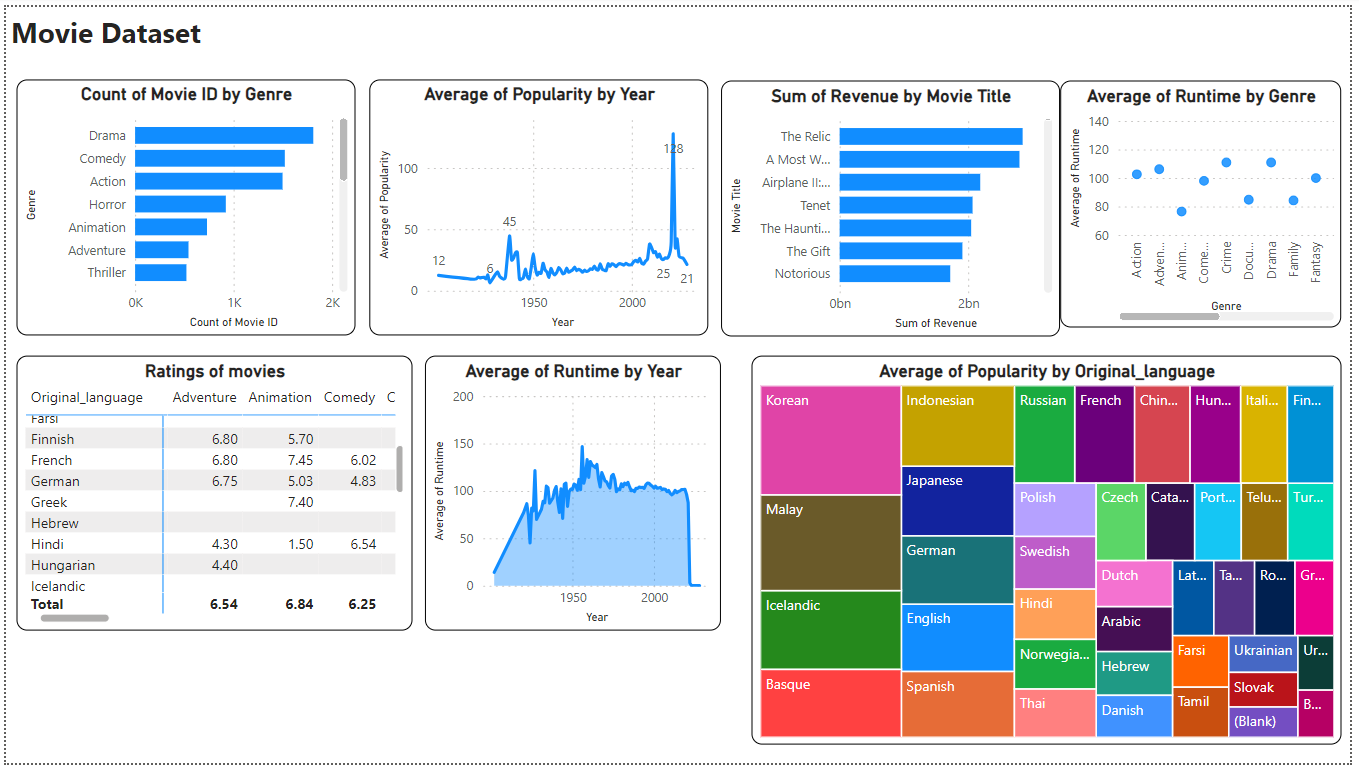

Layout of this report page (visuals, bound fields, positions):
{"tool":"powerbi","page":{"name":"Page 1","canvas":[1280,720],"ordinal":0},"visuals":[{"type":"textbox","box":[0,0,202,50],"z":1},{"type":"clusteredBarChart","fields":{"Category":["Movie_Details.Genre"],"Y":["CountNonNull(Movie_Details.Movie ID)"]},"box":[10,69,323,243],"z":2},{"type":"lineChart","fields":{"Y":["Avg(Movie_Details.Popularity)"],"Category":["Movie_Details.Release Date.Variation.Date Hierarchy.Year"]},"box":[346,69,323,243],"z":3},{"type":"clusteredBarChart","fields":{"Category":["Movie_Details.Movie Title"],"Y":["Sum(Movie_Details.Revenue)"]},"box":[681,70,323,243],"z":4},{"type":"pivotTable","title":"Ratings of movies","fields":{"Rows":["Movie_Details.Original_language"],"Columns":["Movie_Details.Genre"],"Values":["Avg(Movie_Details.Rating)"]},"box":[10,332,377,261],"z":5},{"type":"areaChart","fields":{"Category":["Movie_Details.Release Date.Variation.Date Hierarchy.Year"],"Y":["Avg(Movie_Details.Runtime)"]},"box":[399,332,282,261],"z":6},{"type":"scatterChart","fields":{"X":["Movie_Details.Genre"],"Y":["Avg(Movie_Details.Runtime)"]},"box":[1004,70,268,235],"z":7},{"type":"treemap","fields":{"Group":["Movie_Details.Original_language"],"Values":["Avg(Movie_Details.Popularity)"]},"box":[710,332,562,370],"z":8}]}

Visuals, with their boxes in screenshot pixels (x1, y1, x2, y2), scaled from the page's 1280x720 canvas onto the 1359x771 screenshot:
textbox: (left=0, top=0, right=214, bottom=54)
clusteredBarChart - Movie_Details.Genre x CountNonNull(Movie_Details.Movie ID): (left=11, top=74, right=354, bottom=334)
lineChart - Avg(Movie_Details.Popularity) x Movie_Details.Release Date.Variation.Date Hierarchy.Year: (left=367, top=74, right=710, bottom=334)
clusteredBarChart - Movie_Details.Movie Title x Sum(Movie_Details.Revenue): (left=723, top=75, right=1066, bottom=335)
"Ratings of movies" pivotTable: (left=11, top=356, right=411, bottom=635)
areaChart - Movie_Details.Release Date.Variation.Date Hierarchy.Year x Avg(Movie_Details.Runtime): (left=424, top=356, right=723, bottom=635)
scatterChart - Movie_Details.Genre x Avg(Movie_Details.Runtime): (left=1066, top=75, right=1351, bottom=327)
treemap - Movie_Details.Original_language x Avg(Movie_Details.Popularity): (left=754, top=356, right=1351, bottom=752)
